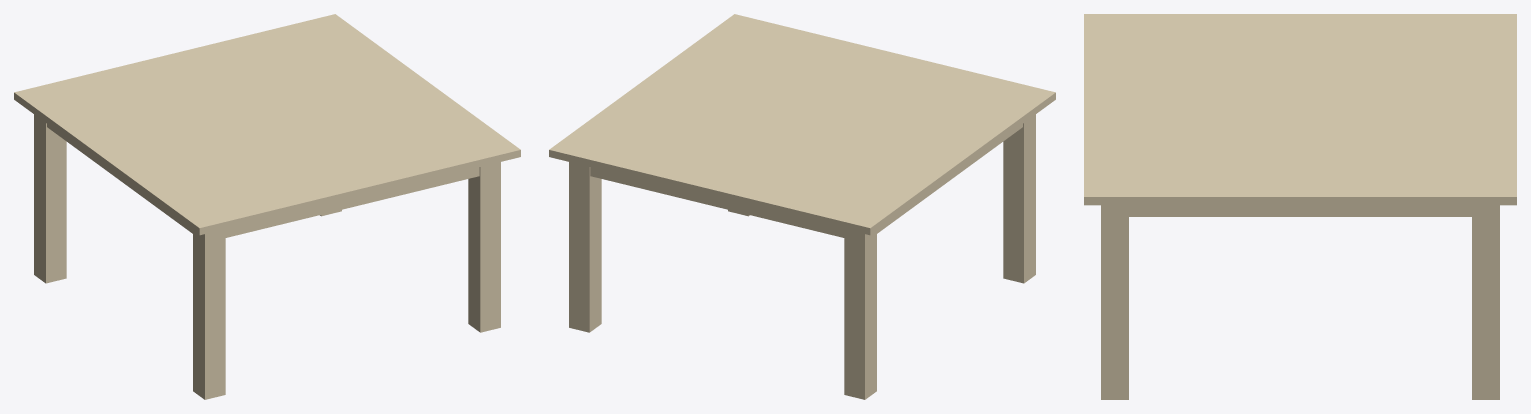
The picture shows the model from 3 angles, left to right: view 1: azimuth 30°, elevation 25°; view 2: azimuth 150°, elevation 25°; view 3: azimuth 270°, elevation 25°; orthographic projection. The views are drawn at different scales.
Parts seen in each view (by area): view 1: Top, Legs, Apron; view 2: Top, Legs, Apron; view 3: Top, Legs, Apron.
Boxes of the visible parts, x1,y1,x2,y2 form: Top: [14, 14, 520, 235]; Legs: [34, 114, 500, 399]; Apron: [47, 124, 479, 237]; Top: [549, 14, 1055, 235]; Legs: [569, 114, 1035, 399]; Apron: [590, 124, 1022, 237]; Top: [1084, 14, 1516, 205]; Legs: [1101, 205, 1499, 399]; Apron: [1129, 205, 1471, 216].
Bounding box in the file's own units: 1.4 × 0.75 × 1.4.
